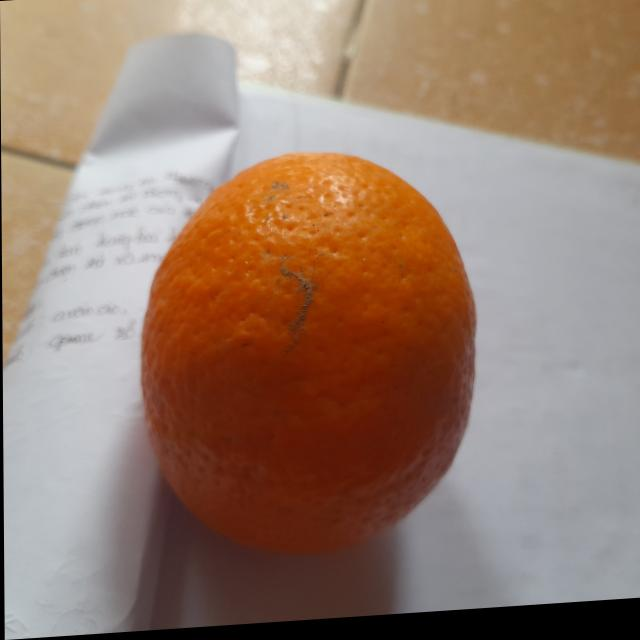Cam: (136, 141, 481, 569)
